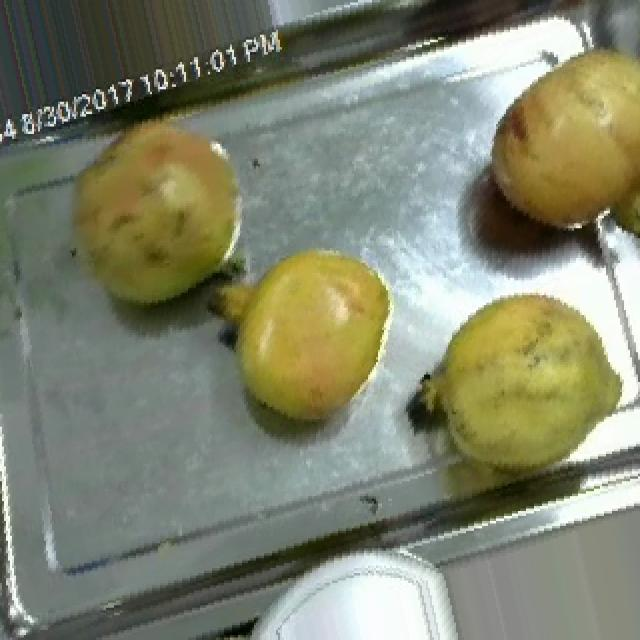fruit: (396, 266, 640, 504), (42, 100, 276, 332), (210, 226, 414, 447), (470, 30, 640, 263)
